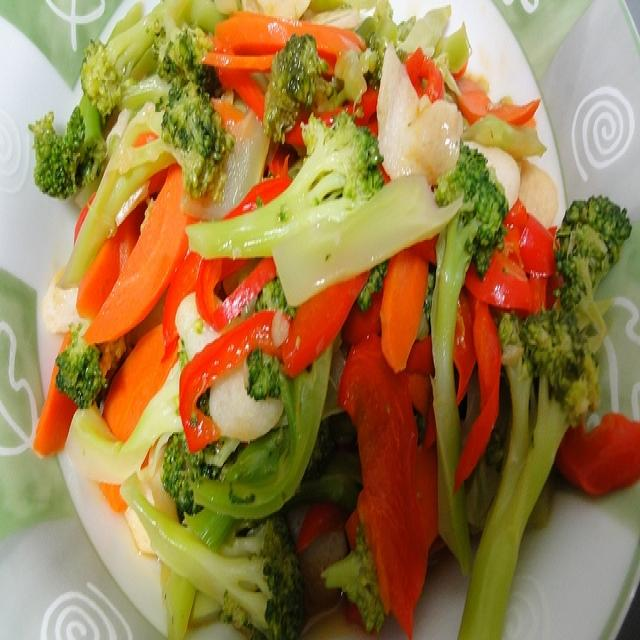蔬菜料理: (22, 18, 616, 608)
